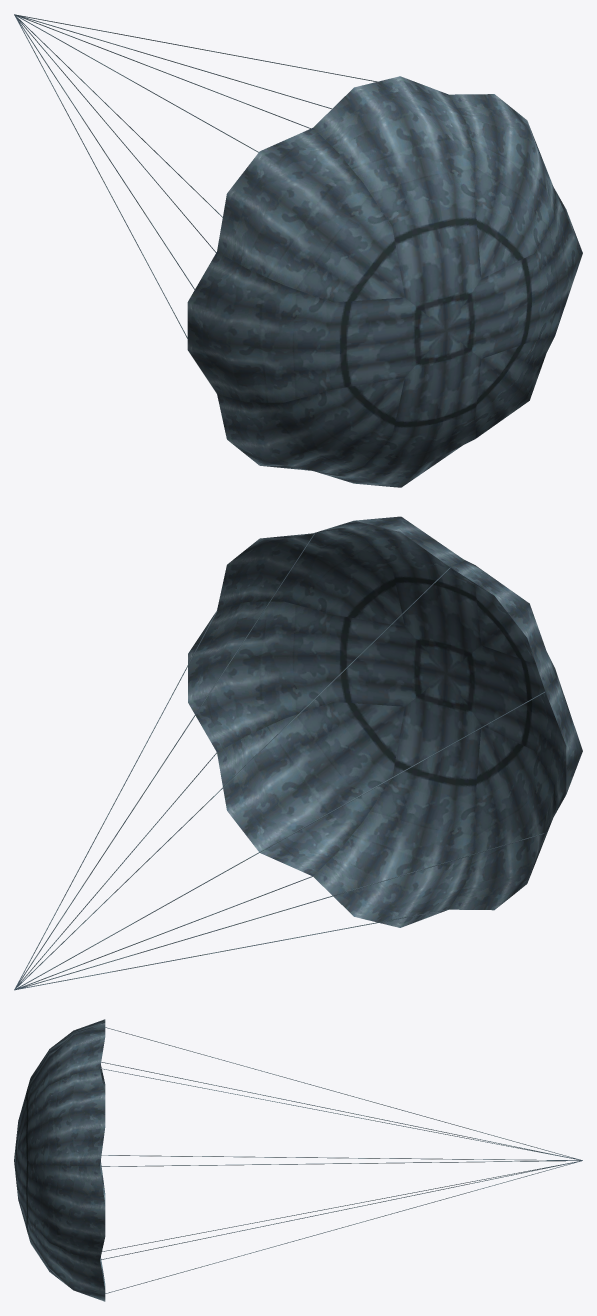
File: Parachute.obj
The picture shows the model from 3 angles, top to bottom: view 1: azimuth 30°, elevation 25°; view 2: azimuth 150°, elevation 25°; view 3: azimuth 270°, elevation 25°; orthographic projection. The views are drawn at different scales.
Parts seen in each view (by area): view 1: LOD0; view 2: LOD0; view 3: LOD0.
Part boxes in pixels (bbox=[...]): LOD0: bbox=[14, 14, 582, 487]; LOD0: bbox=[14, 516, 582, 990]; LOD0: bbox=[14, 1019, 582, 1301].
Size of the model in its own units: 6.08 by 6.08 by 12.01.
